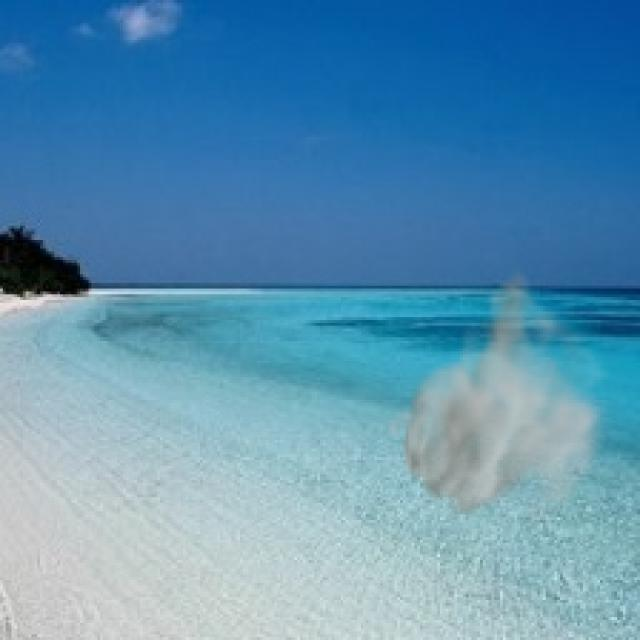smoke: (383, 263, 614, 540)
